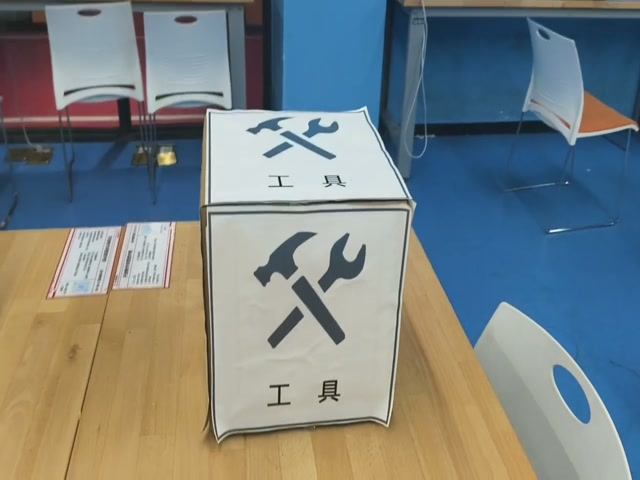Cube_tool: (201, 109, 413, 216)
